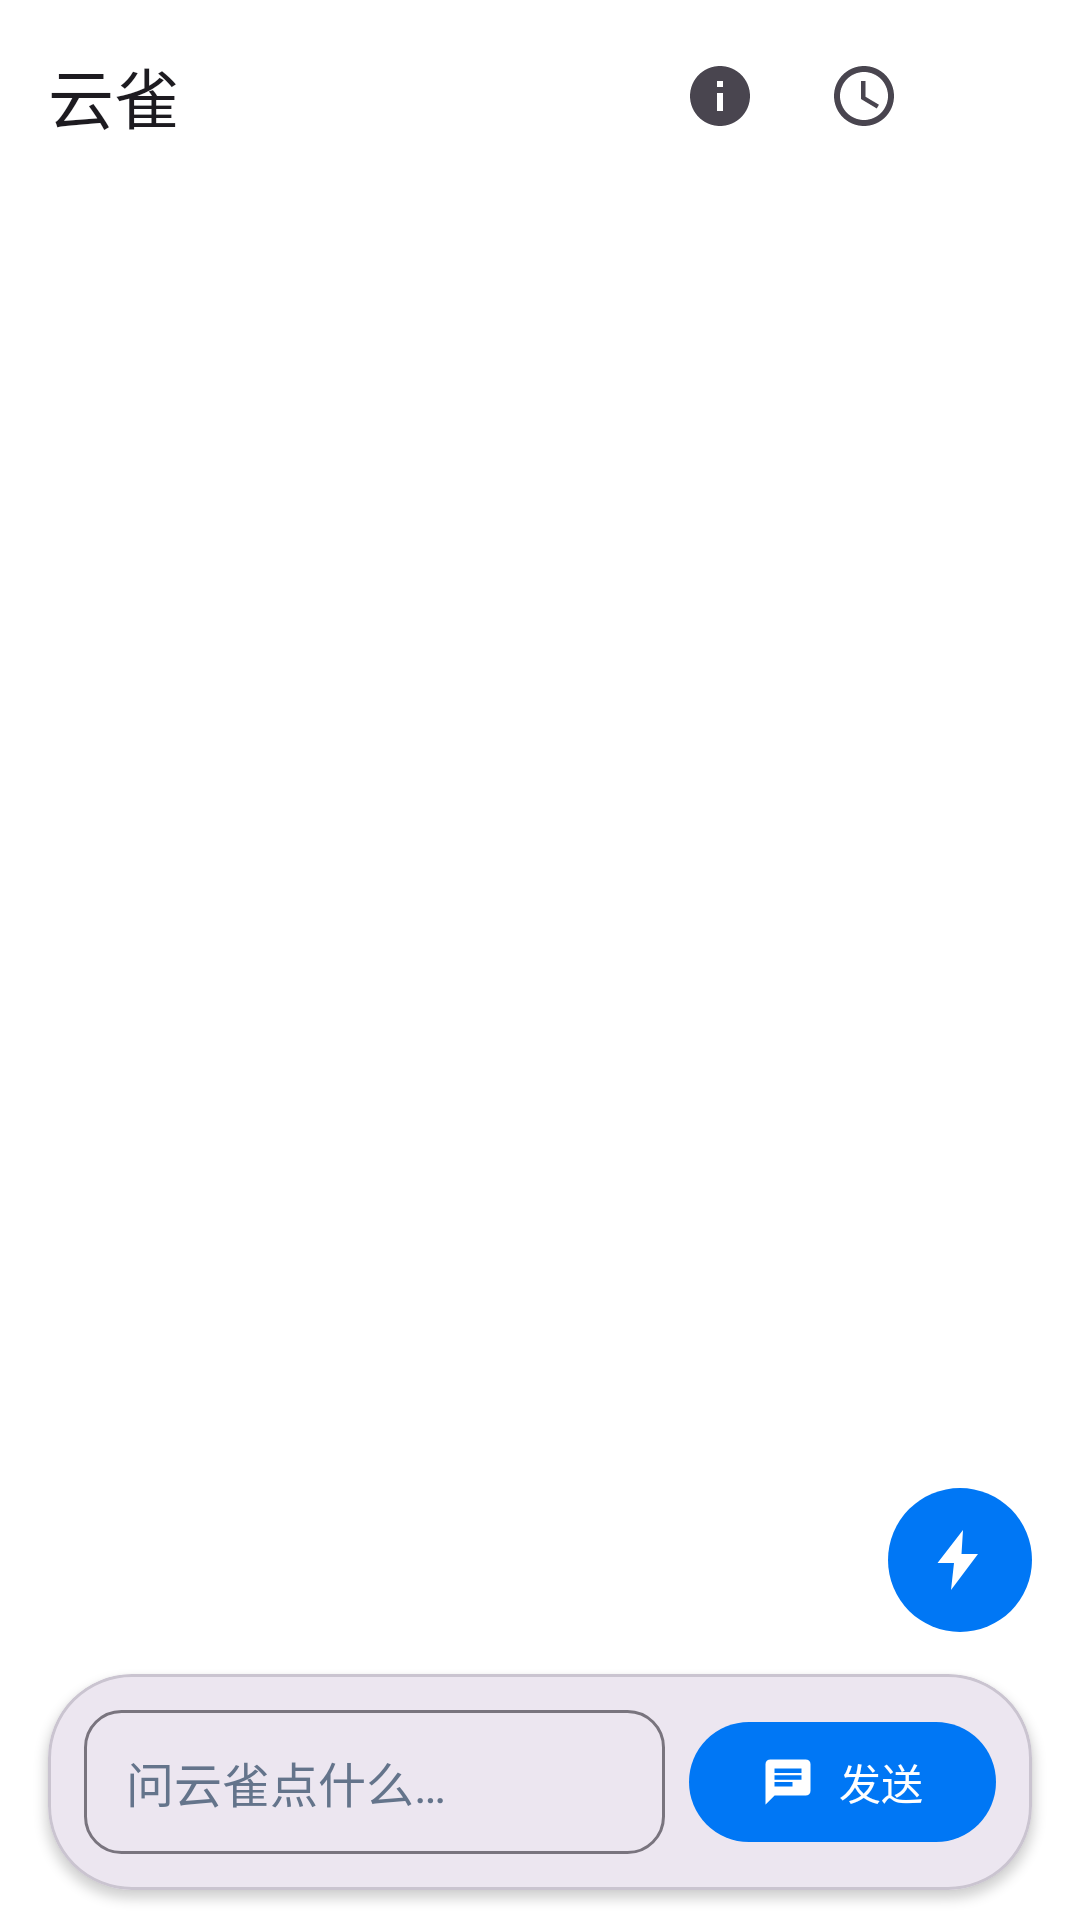

Named icons in this screenshot (1080px x 1920px) and their centers, [x,y]:
关于云雀: [720,96]
定时日报: [864,96]
预制问题: [960,1560]
